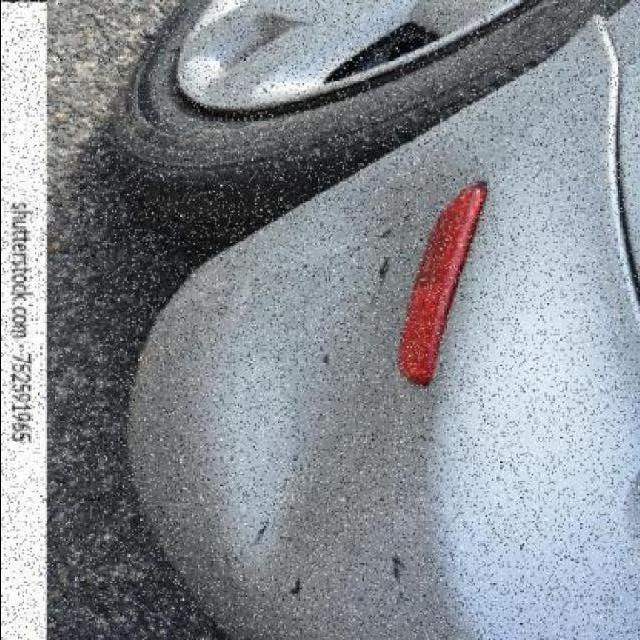rear-bumper-dent: (126, 17, 615, 638)
